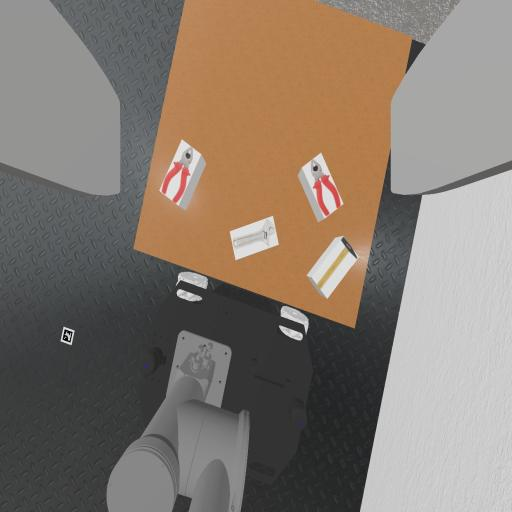hammer: (319, 237, 358, 287)
pliers: (162, 148, 192, 203), (312, 160, 340, 216)
wrench: (233, 220, 275, 247)
